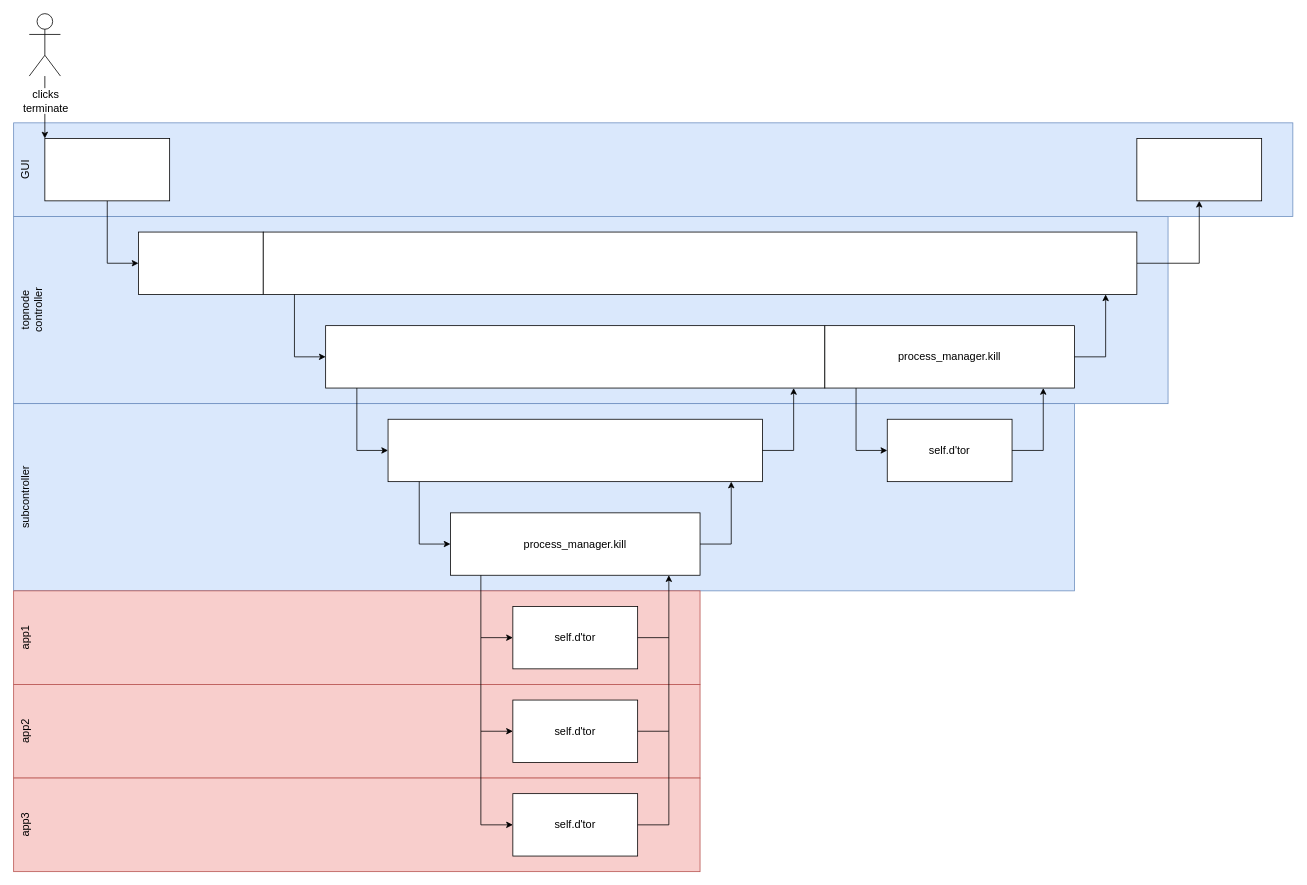
Some shapes in this 1307 by 885 pixel diagram are drawn without their labels. The shapes that lost their labels are listed below. From the top down, each one's centre as x and y in pixels, then its label:
(107,169): sends terminate command
(1199,169): redirect to partition handler
(200,262): command_handler. "receives terminate"
(699,262): command_handler.execute_command -> self.execute_command
(575,356): application_controller.send_command
(574,450): command_handler.execute_command
